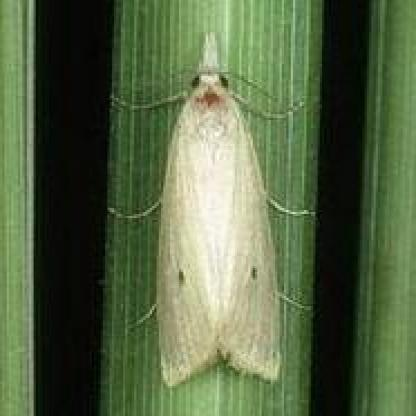stem-borer: (127, 27, 292, 386)
